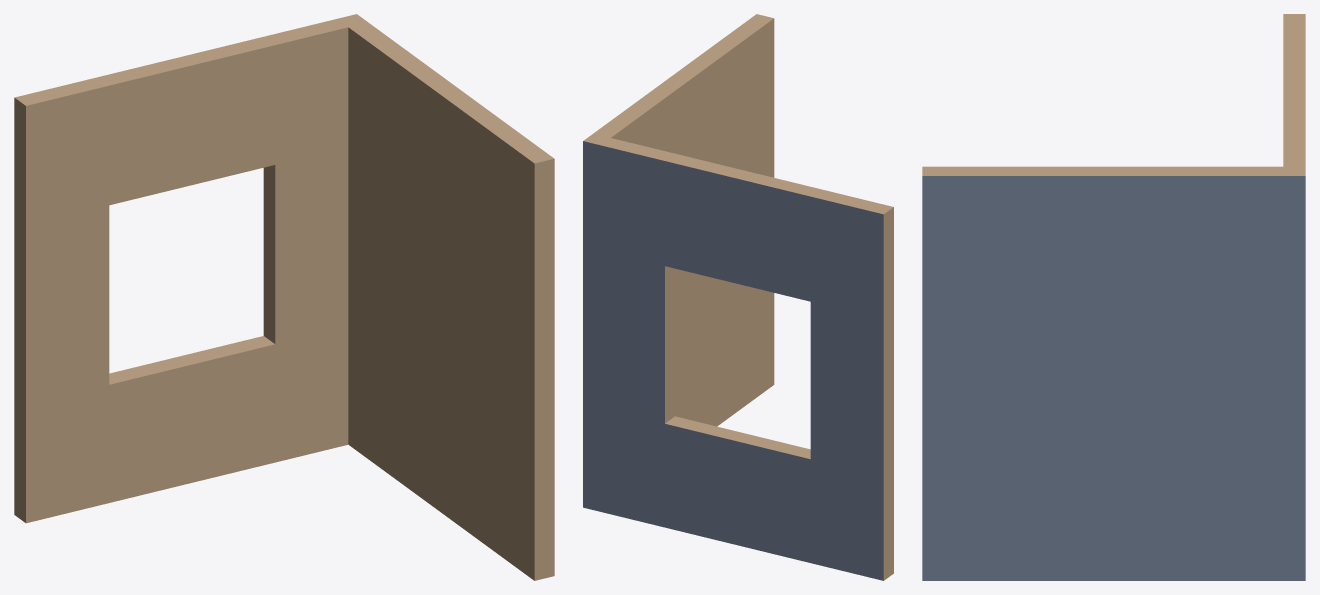
The model's file is Wall3_C3_10.fbx.
The picture shows the model from 3 angles, left to right: view 1: azimuth 30°, elevation 25°; view 2: azimuth 150°, elevation 25°; view 3: azimuth 270°, elevation 25°; orthographic projection. The views are drawn at different scales.
Parts seen in each view (by area): view 1: Wall3_C3_10; view 2: Wall3_C3_10; view 3: Wall3_C3_10.
Boxes of the visible parts, x1,y1,x2,y2 form: Wall3_C3_10: (14, 14, 554, 580); Wall3_C3_10: (583, 14, 893, 580); Wall3_C3_10: (922, 14, 1305, 580).
Size of the model in its own units: 258 by 300 by 258.
